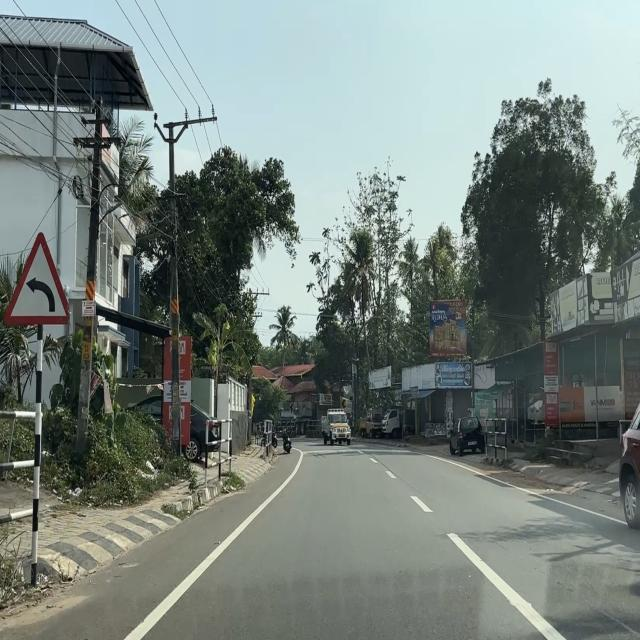LEFT_TURN_AHEAD: (4, 230, 74, 328)
